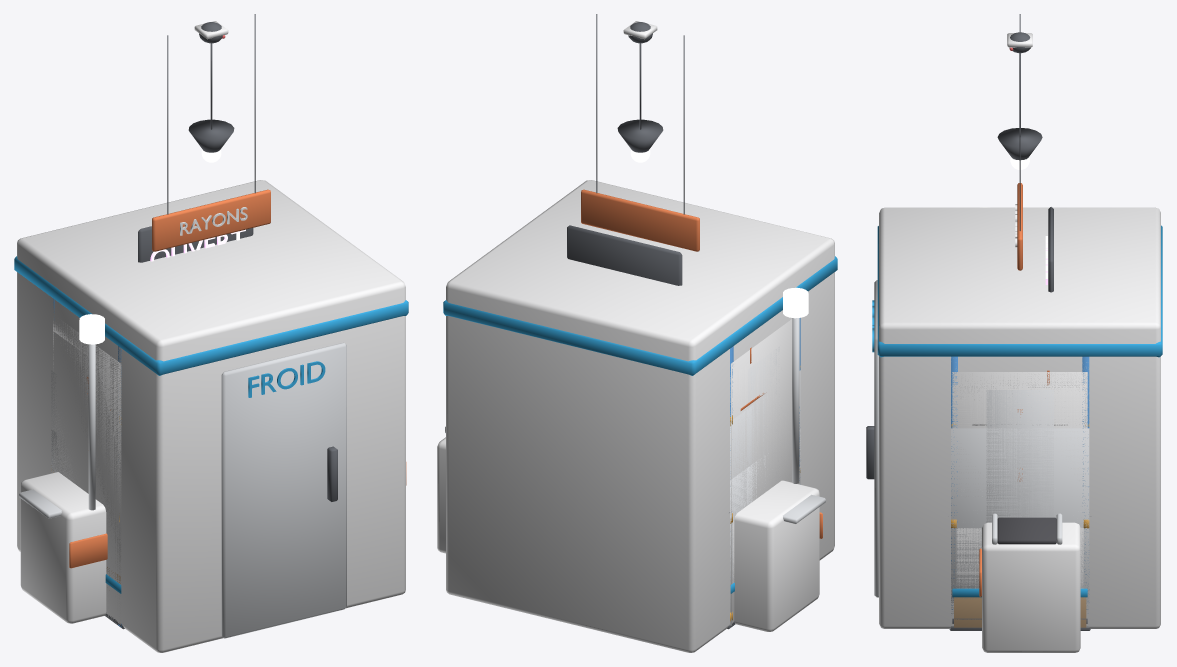
File: equipment.glb
3 views of the same model, side by side, from view 1: azimuth 30°, elevation 25°; view 2: azimuth 150°, elevation 25°; view 3: azimuth 270°, elevation 25° (orthographic). The views are drawn at different scales.
Visible parts, largest first — view 1: equip__chambre_froide, equip__caisse, equip__frigo_vitre, equip__panneau_rayon, equip__spot, equip__neon; view 2: equip__chambre_froide, equip__caisse, equip__frigo_vitre, equip__panneau_rayon, equip__neon, equip__frigo_mural, equip__gondole_double, equip__spot, equip__gondole_basse, equip__gondole_simple; view 3: equip__chambre_froide, equip__gondole_double, equip__caisse, equip__gondole_simple, equip__frigo_vitre, equip__frigo_mural, equip__congelateur, equip__spot, equip__etal_fruits, equip__panneau_rayon, equip__rack_reserve, equip__neon (+1 smaller).
Boxes of the visible parts, bbox=[...] form: equip__chambre_froide: bbox=[14, 180, 408, 652]; equip__caisse: bbox=[19, 314, 406, 623]; equip__frigo_vitre: bbox=[52, 318, 121, 625]; equip__panneau_rayon: bbox=[152, 14, 270, 251]; equip__spot: bbox=[188, 43, 234, 162]; equip__neon: bbox=[138, 226, 253, 262]; equip__chambre_froide: bbox=[443, 180, 837, 652]; equip__caisse: bbox=[437, 287, 825, 631]; equip__frigo_vitre: bbox=[730, 318, 799, 625]; equip__panneau_rayon: bbox=[581, 14, 699, 251]; equip__neon: bbox=[567, 225, 682, 285]; equip__frigo_mural: bbox=[730, 352, 799, 624]; equip__gondole_double: bbox=[729, 370, 800, 625]; equip__spot: bbox=[617, 43, 663, 162]; equip__gondole_basse: bbox=[730, 429, 800, 624]; equip__gondole_simple: bbox=[748, 346, 779, 482]; equip__chambre_froide: bbox=[866, 207, 1162, 628]; equip__gondole_double: bbox=[949, 409, 1090, 629]; equip__caisse: bbox=[979, 207, 1080, 652]; equip__gondole_simple: bbox=[986, 370, 1053, 522]; equip__frigo_vitre: bbox=[952, 372, 1087, 623]; equip__frigo_mural: bbox=[952, 384, 1087, 497]; equip__congelateur: bbox=[952, 516, 1091, 597]; equip__spot: bbox=[997, 53, 1042, 169]; equip__etal_fruits: bbox=[954, 423, 1086, 627]; equip__panneau_rayon: bbox=[1015, 14, 1022, 270]; equip__rack_reserve: bbox=[951, 356, 1089, 609]; equip__neon: bbox=[1045, 207, 1053, 292].
Size of the model in its own units: 2.8 by 4.22 by 2.1.
